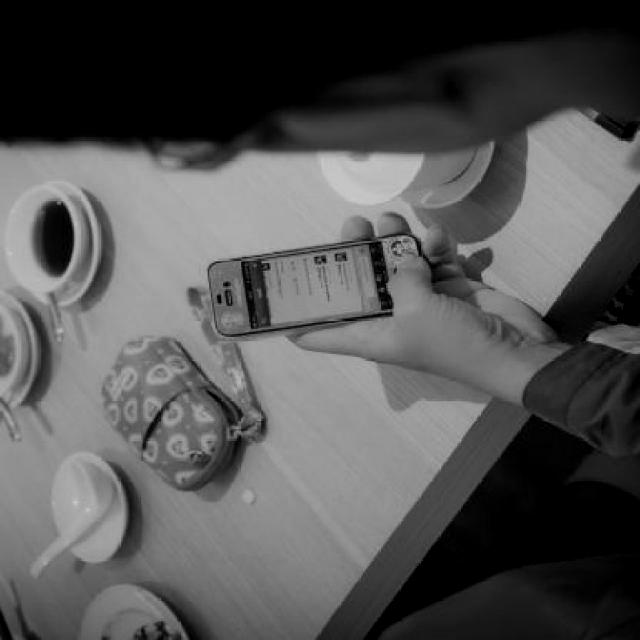fake: (204, 229, 420, 346)
